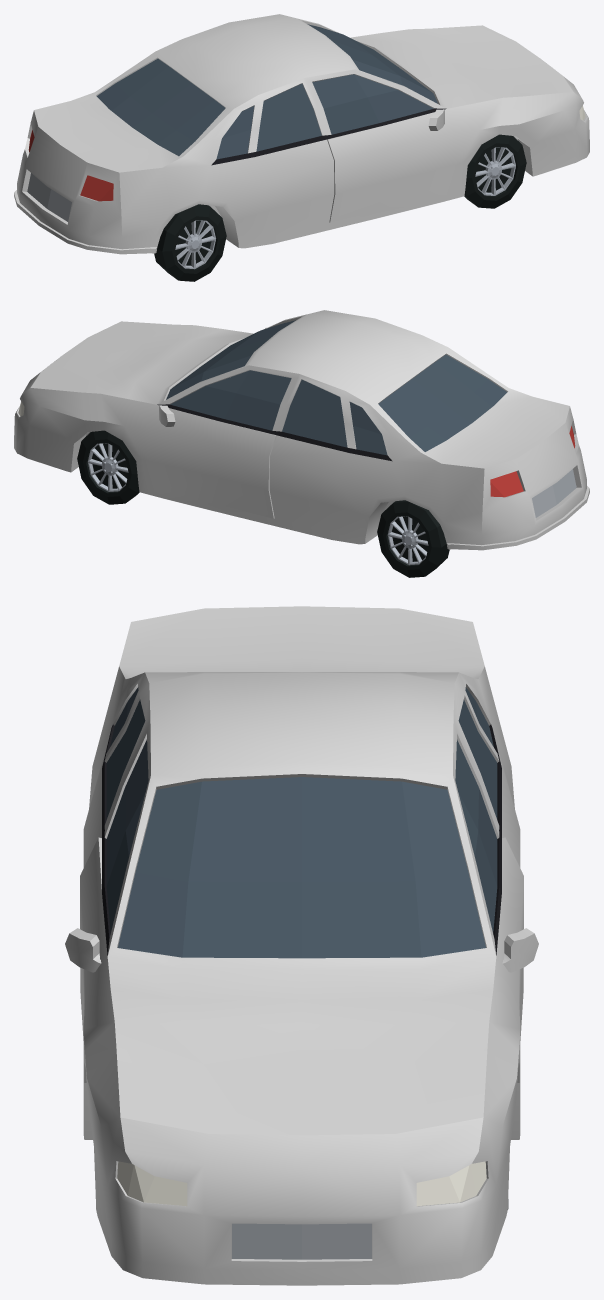
Rendered from carro_sedan.glb.
3 views of the same model, one above another, from view 1: azimuth 30°, elevation 25°; view 2: azimuth 150°, elevation 25°; view 3: azimuth 270°, elevation 25° (orthographic). The views are drawn at different scales.
Visible parts, largest first — view 1: carroceria, vidro, detalhes, lanterna; view 2: carroceria, vidro, detalhes, lanterna; view 3: carroceria, vidro, detalhes, farol.
Boxes of the visible parts, box(x1,y1,x2,y2) form: carroceria: box(14, 14, 589, 254); vidro: box(96, 24, 437, 159); detalhes: box(27, 108, 526, 281); lanterna: box(28, 130, 113, 201); carroceria: box(14, 310, 589, 550); vidro: box(166, 320, 507, 455); detalhes: box(77, 404, 576, 577); lanterna: box(490, 426, 575, 497); carroceria: box(65, 606, 538, 1285); vidro: box(106, 687, 497, 958); detalhes: box(102, 724, 508, 1259); farol: box(117, 1161, 486, 1206).
Bounding box in the file's own units: 4.6 × 1.45 × 1.82.
